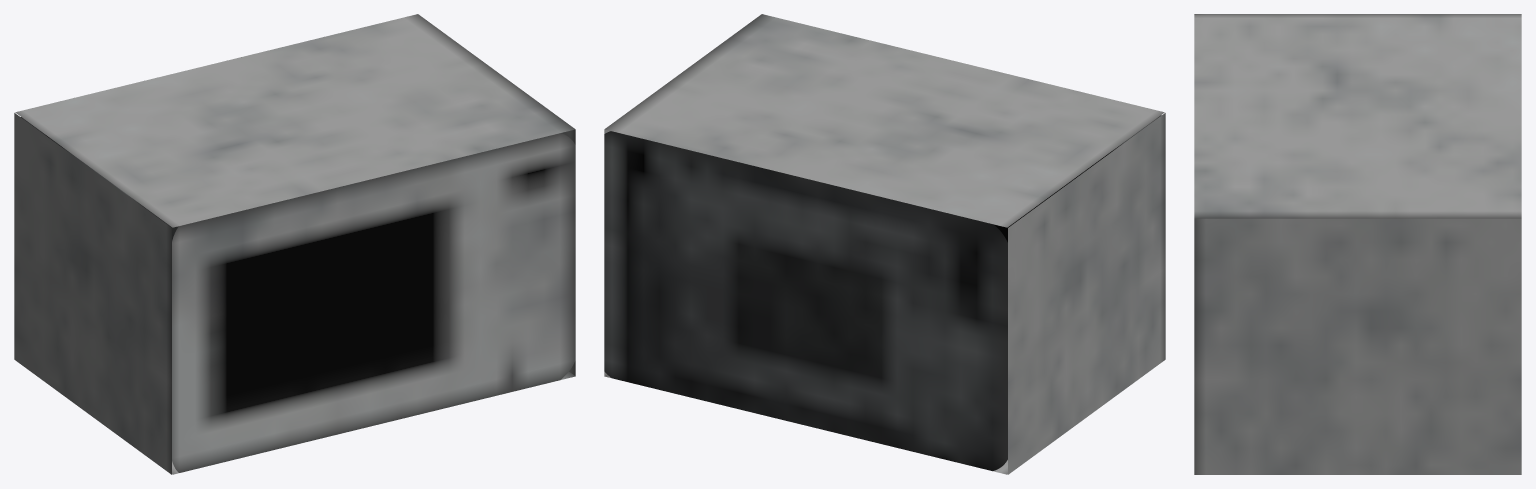
Rendered from SM_EC_Microwave_0.fbx.
3 renders of one model, left to right at view 1: azimuth 30°, elevation 25°; view 2: azimuth 150°, elevation 25°; view 3: azimuth 270°, elevation 25°, orthographic. The views are drawn at different scales.
Visible parts, largest first — view 1: SM_EC_Microwave_0; view 2: SM_EC_Microwave_0; view 3: SM_EC_Microwave_0.
Boxes of the visible parts, x1=… form: SM_EC_Microwave_0: x1=14, y1=14, x2=575, y2=474; SM_EC_Microwave_0: x1=604, y1=14, x2=1165, y2=474; SM_EC_Microwave_0: x1=1194, y1=14, x2=1521, y2=474.
Bounding box in the file's own units: 0.8004 × 0.5413 × 0.4679.
